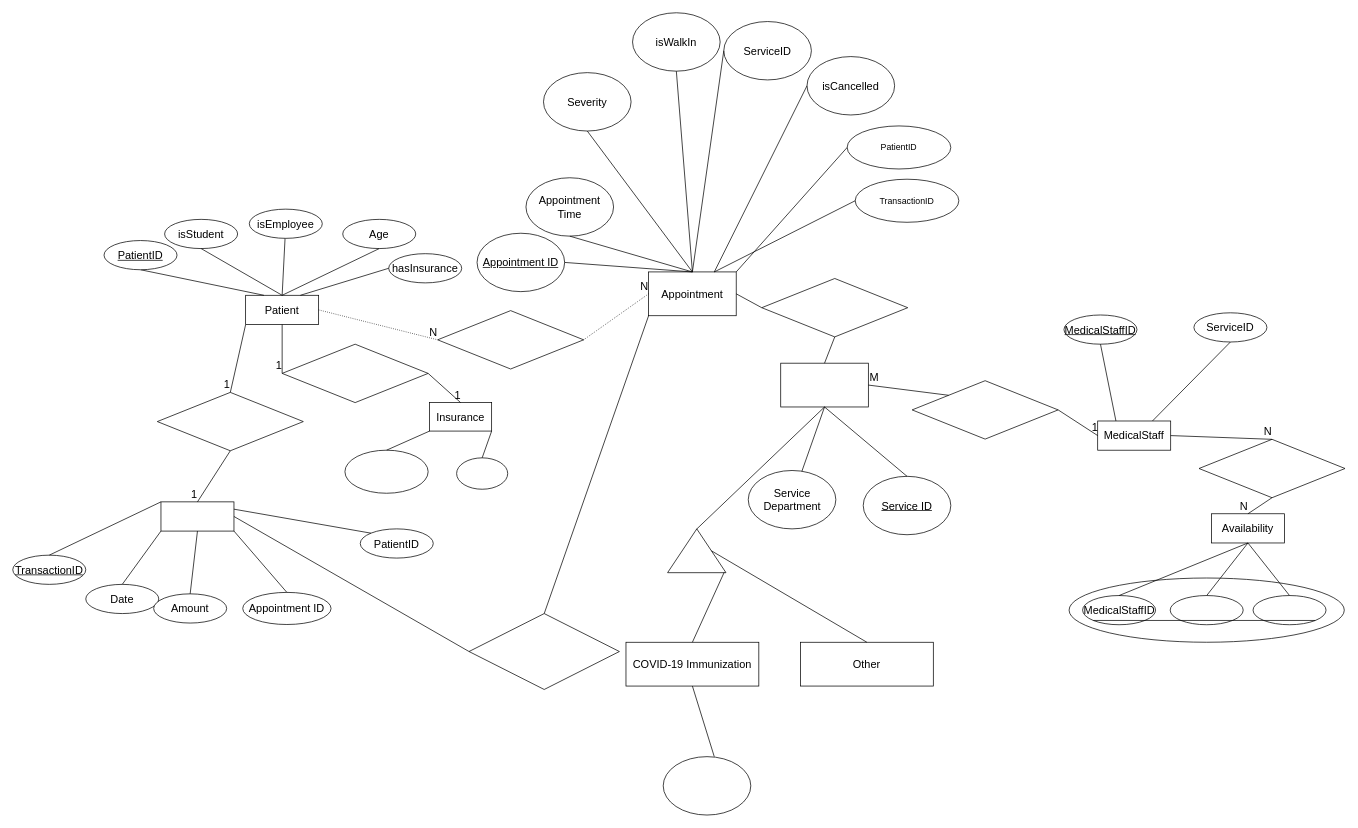
Some shapes in this 1358 by 828 pixel diagram are drawn without their labels. Each missing label, with the centre of its shape:
"Appointment_Service" belongs at point (834, 307).
"CheckIn" belongs at point (1206, 610).
"CheckOut" belongs at point (1289, 610).
"Description" belongs at point (706, 785).
"isA" belongs at point (696, 550).
"Medical Staff_Availability" belongs at point (1271, 468).
"MedicalService" belongs at point (984, 409).
"Patient_Appointment" belongs at point (510, 339).
"Patient_Insurance" belongs at point (354, 373).
"PatientTransactions" belongs at point (230, 421).
"Rate" belongs at point (482, 473).
"Service" belongs at point (824, 384).
"TransactionAppointment" belongs at point (543, 651).
"Transactions" belongs at point (197, 516).
"Type (student, employee)" belongs at point (386, 471).
